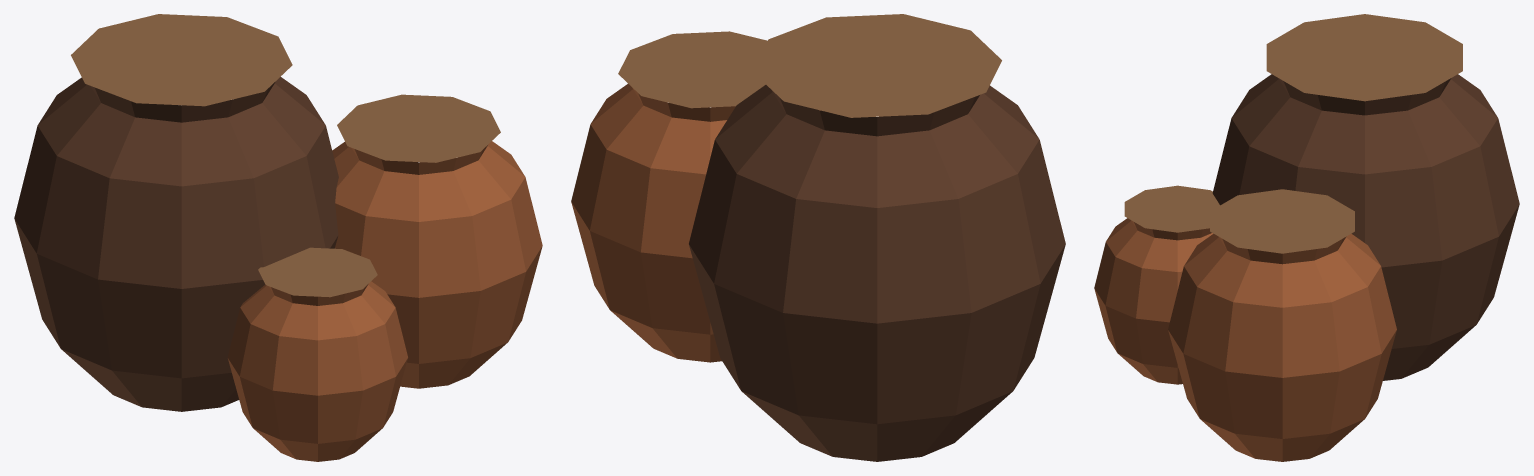
The model's file is viet_jars.glb.
The picture shows the model from 3 angles, left to right: view 1: azimuth 30°, elevation 25°; view 2: azimuth 150°, elevation 25°; view 3: azimuth 270°, elevation 25°; orthographic projection. The views are drawn at different scales.
Parts seen in each view (by area): view 1: viet_jars; view 2: viet_jars; view 3: viet_jars.
Part boxes in pixels (x1=…): viet_jars: x1=14, y1=14, x2=542, y2=461; viet_jars: x1=571, y1=14, x2=1065, y2=461; viet_jars: x1=1094, y1=14, x2=1519, y2=461.
Size of the model in its own units: 1 by 0.6837 by 0.8954.
